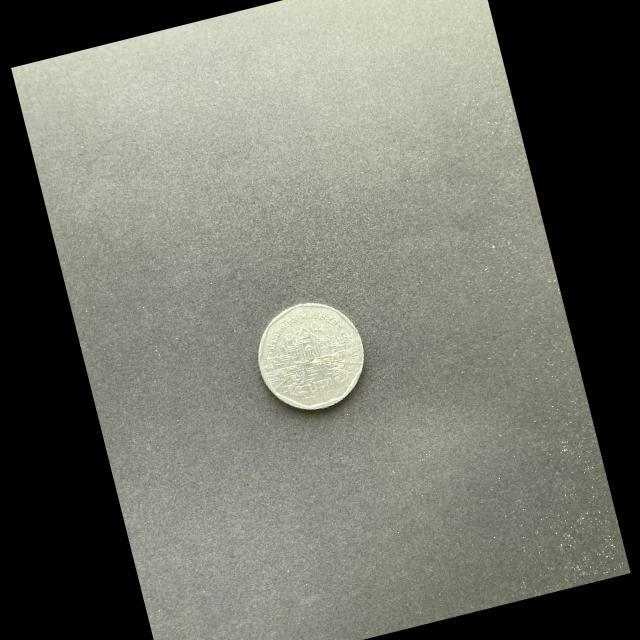5 Bath: (256, 299, 369, 416)
